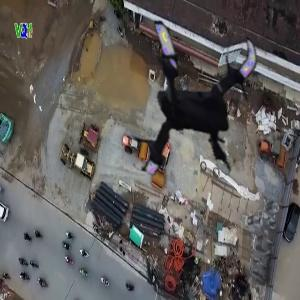drone: (96, 14, 285, 203)
